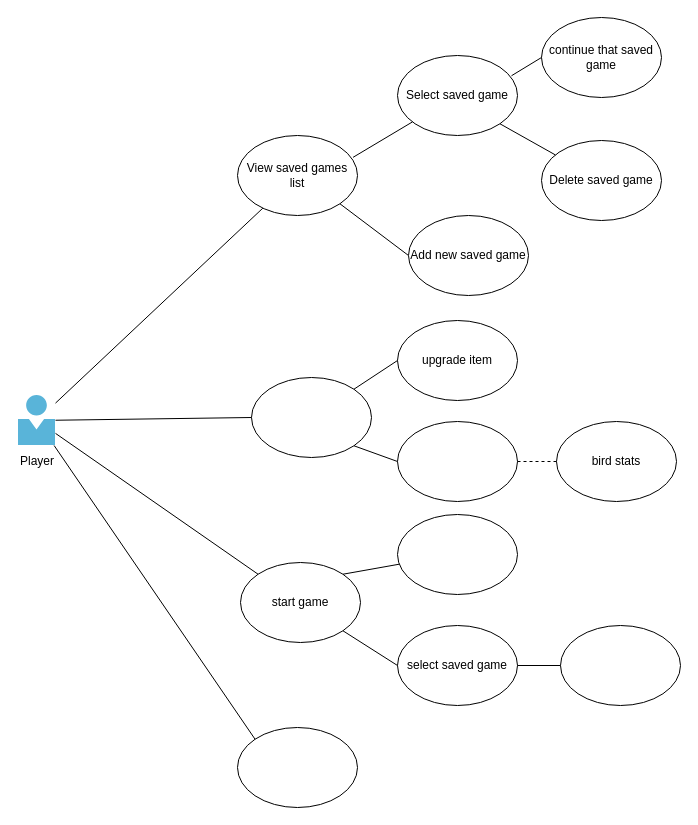
The diagram is 698 pixels wide and 825 high, and some of its shapes have lost their labels. The centre of each missing label's shape, as x and y in pixels:
"choosing saved game slot" goes at point (620, 665).
"exit game" goes at point (297, 767).
"new game" goes at point (457, 554).
"upgrade" goes at point (311, 417).
"upgrade bird" goes at point (457, 461).
